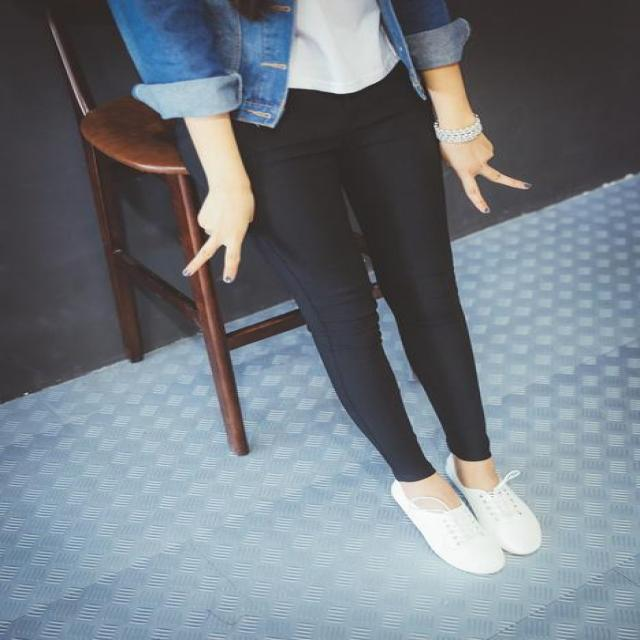long sleeve outwear: (108, 2, 219, 123), (207, 3, 301, 126)
trousers: (198, 51, 491, 483)
